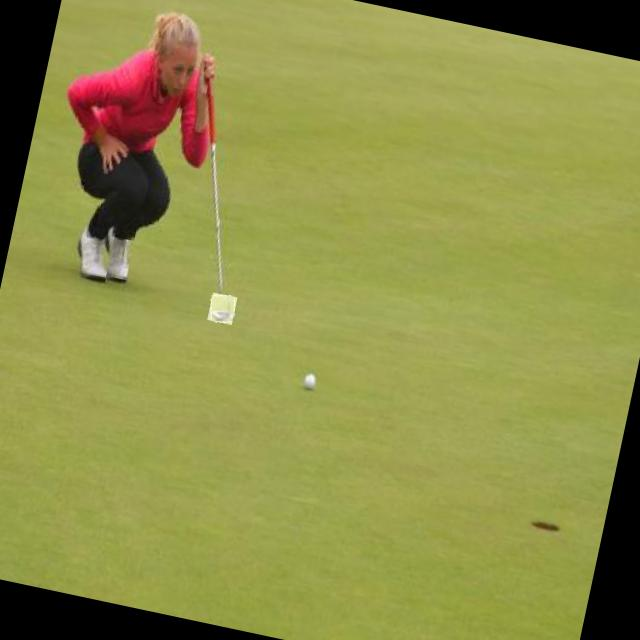club head: (207, 292, 237, 325)
